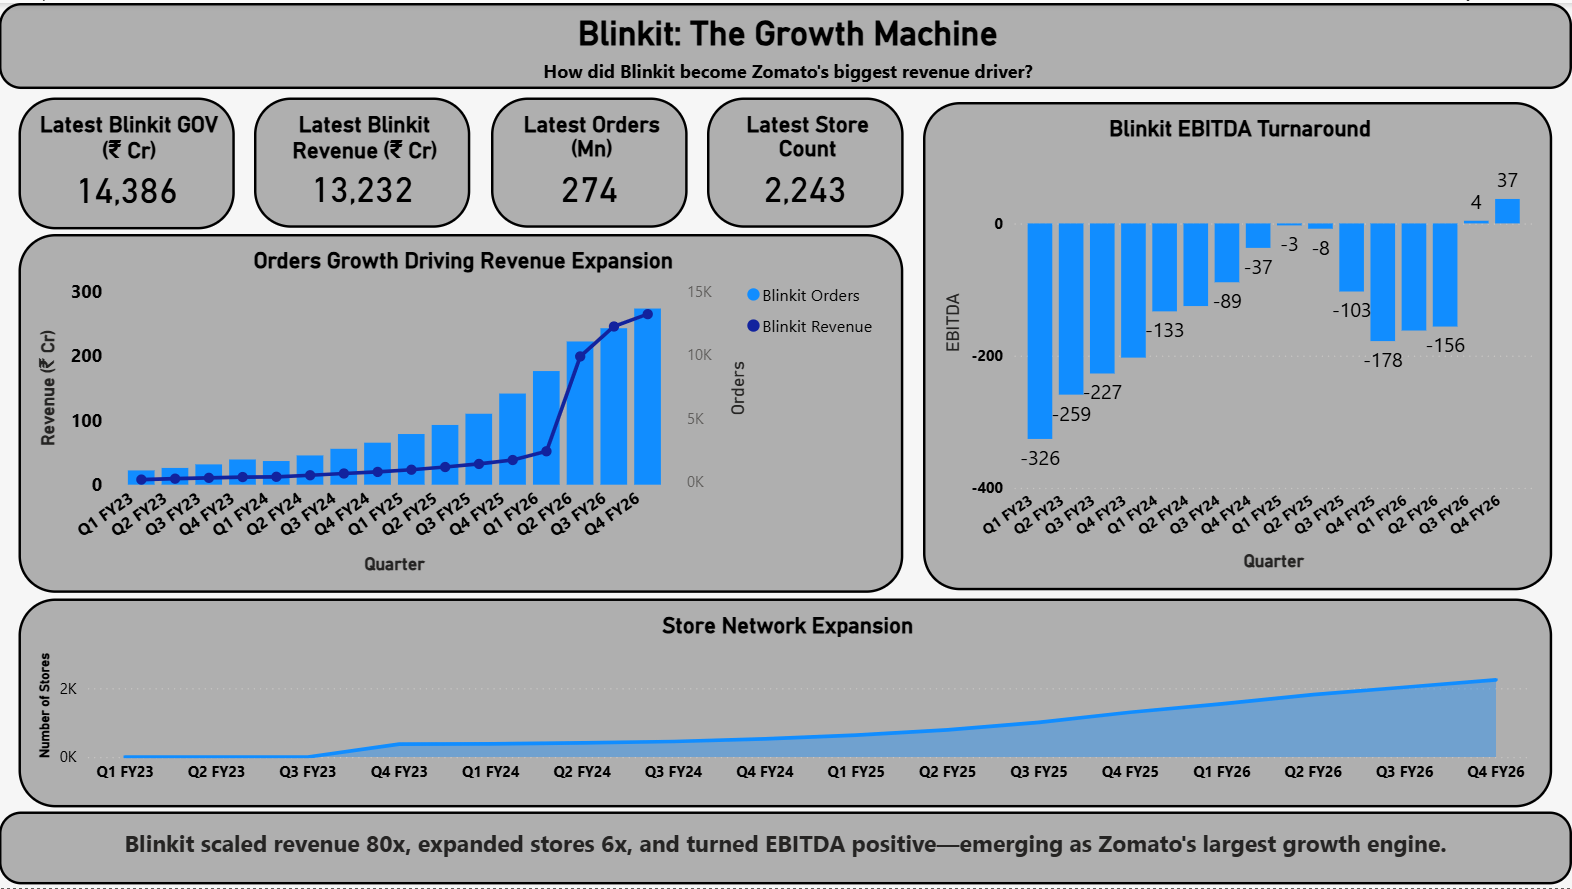

The dashboard page shown, as its layout file describes it:
{"tool":"powerbi","page":{"name":"Blinkit Growth Machine","canvas":[1280,720],"ordinal":2},"visuals":[{"type":"textbox","title":"Blinkit: The Growth Machine","box":[0,0,1280,70],"z":0},{"type":"card","title":"Latest Blinkit GOV (₹ Cr)","fields":{"Values":["EBITDA_Mix.Latest Blinkit GOV"]},"box":[16,77,176,107],"z":1000},{"type":"card","title":"Latest Blinkit Revenue (₹ Cr)","fields":{"Values":["public zomato_dashboard_view.Latest Blinkit Revenue"]},"box":[208,77,176,106],"z":2000},{"type":"card","title":"Latest Store Count","fields":{"Values":["EBITDA_Mix.Latest Store Count"]},"box":[576,77,160,106],"z":3000},{"type":"card","title":"Latest Orders (Mn)","fields":{"Values":["EBITDA_Mix.Latest Blinkit Orders"]},"box":[400,77,160,106],"z":4000},{"type":"lineClusteredColumnComboChart","title":"Orders Growth Driving Revenue Expansion","fields":{"Category":["public zomato_dashboard_view.quarter"],"Y2":["Sum(public zomato_dashboard_view.blinkit_revenue)"],"Y":["Sum(public zomato_dashboard_view.blinkit_orders)"]},"box":[16,188,720,292],"z":5000},{"type":"areaChart","title":"Store Network Expansion","fields":{"Y":["Sum(public zomato_dashboard_view.store_count)"],"Category":["public zomato_dashboard_view.quarter"]},"box":[16,484,1248,170],"z":6000},{"type":"columnChart","title":"Blinkit EBITDA Turnaround","fields":{"Category":["public zomato_dashboard_view.quarter"],"Y":["Sum(public zomato_dashboard_view.blinkit_ebitda)"]},"box":[752,80,512,397],"z":7000},{"type":"textbox","box":[0,658,1280,59],"z":8000}]}

Visuals, with their boxes in screenshot pixels (x1, y1, x2, y2), scaled from the page's 1280x720 canvas onto the 1572x889 screenshot:
"Blinkit: The Growth Machine" textbox: 0 0 1571 86
"Latest Blinkit GOV (₹ Cr)" card: 20 95 236 227
"Latest Blinkit Revenue (₹ Cr)" card: 255 95 472 226
"Latest Store Count" card: 707 95 904 226
"Latest Orders (Mn)" card: 491 95 688 226
"Orders Growth Driving Revenue Expansion" lineClusteredColumnComboChart: 20 232 904 593
"Store Network Expansion" areaChart: 20 598 1552 808
"Blinkit EBITDA Turnaround" columnChart: 924 99 1552 589
textbox: 0 812 1571 885
